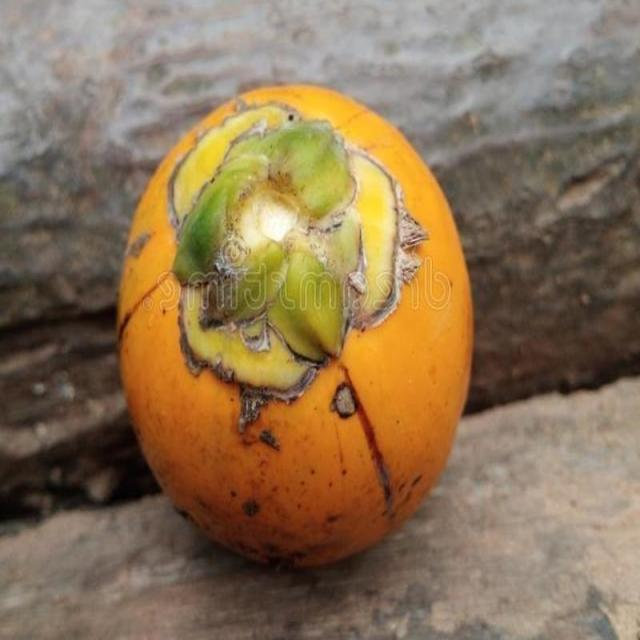good: (115, 86, 475, 574)
